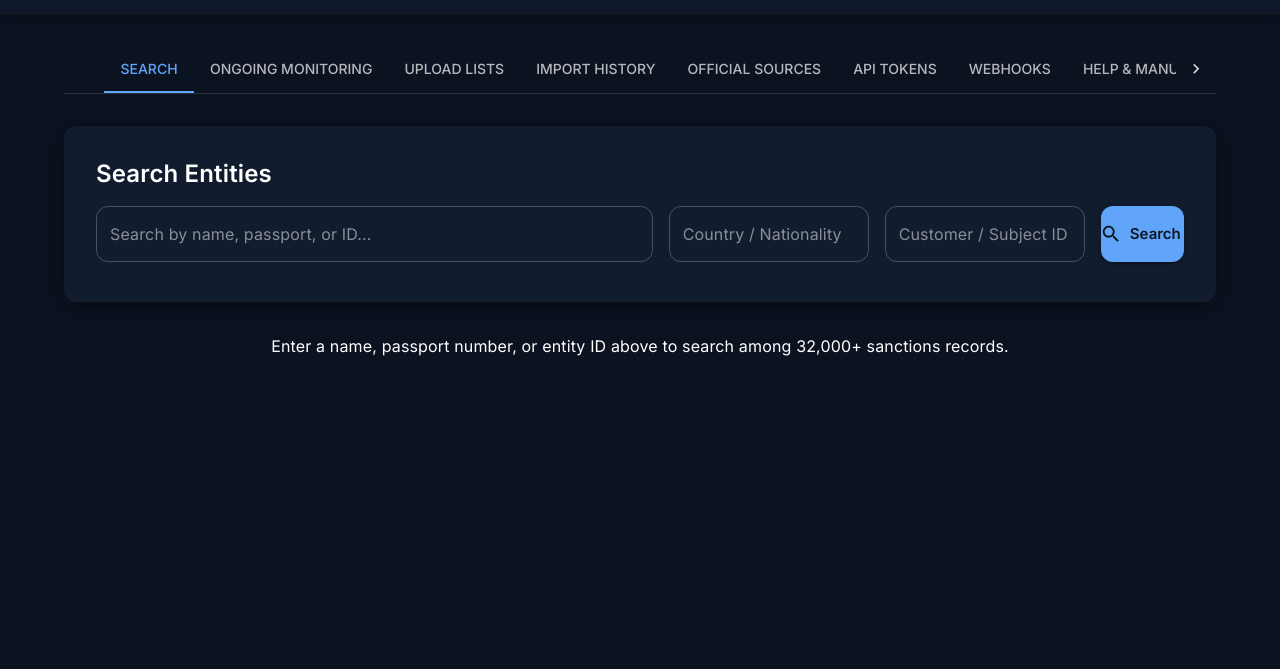
App component navigation tabs › navigates to Help & Manual tab
Expected: the heading "Search Entities" is shown, [96,159,272,188]
Click the tab "Help & Manual": (1140, 69) [1067,45,1212,93]
(page scrolled)
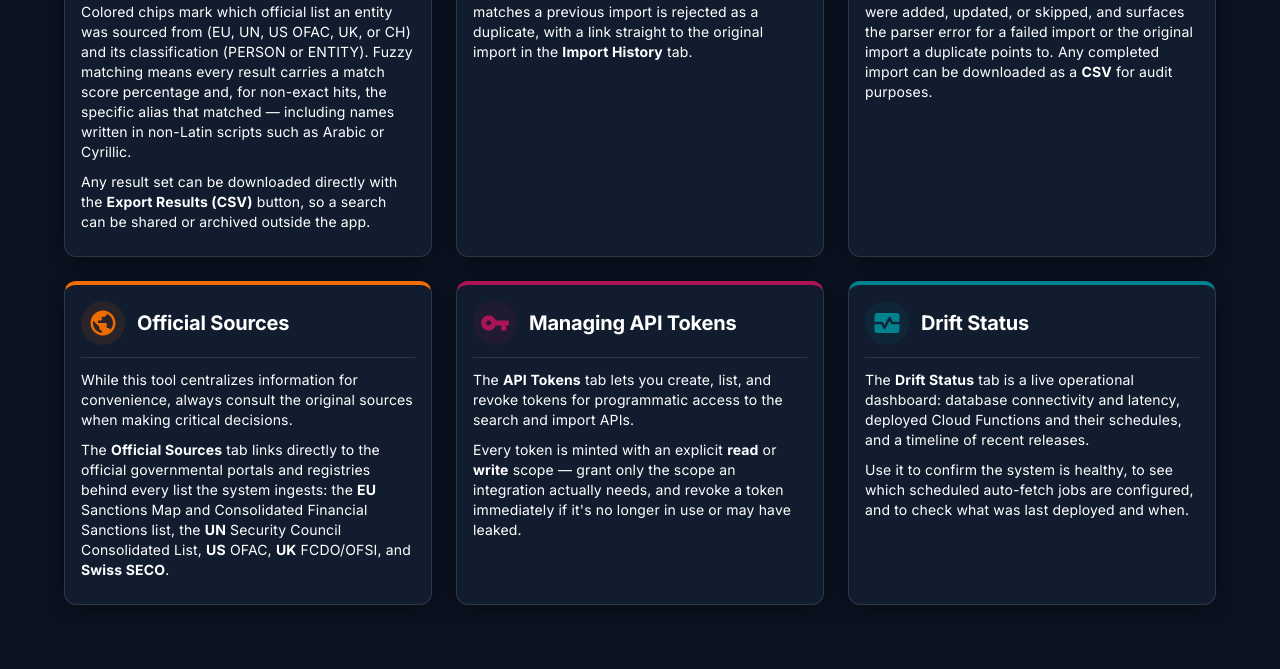
Expected: the heading "Managing API Tokens" is shown, [529,307,736,339]
Expected: the heading "Official Sources" is shown, [137,307,289,339]
